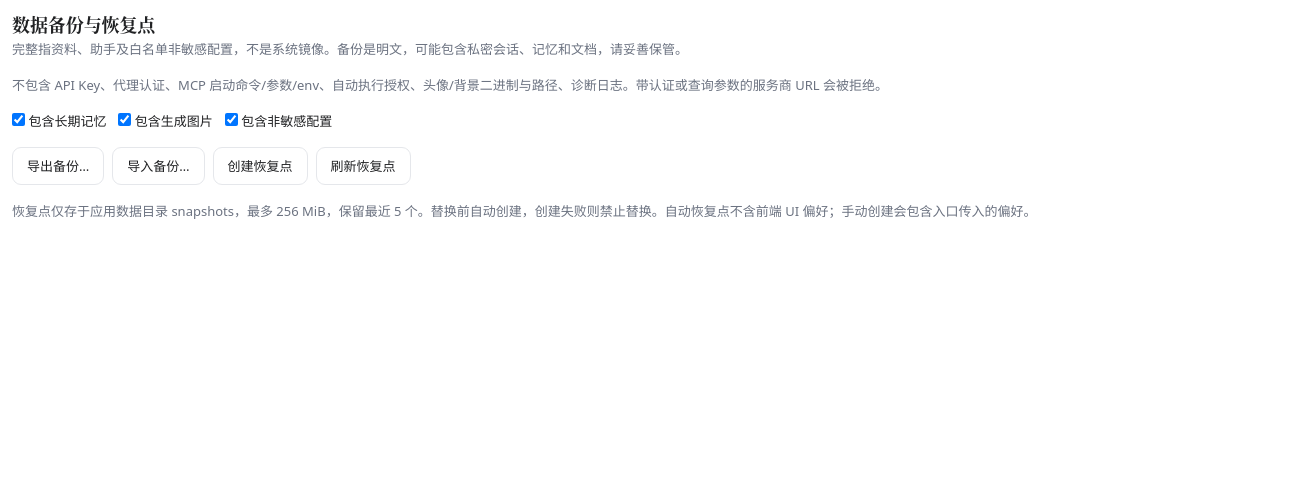
BackupPanel › keeps preview and reports checkpoint/import failure without claiming success
The image size is (1292, 486).
Click the button "导入备份…" at (158, 166), box [112,147,205,185]
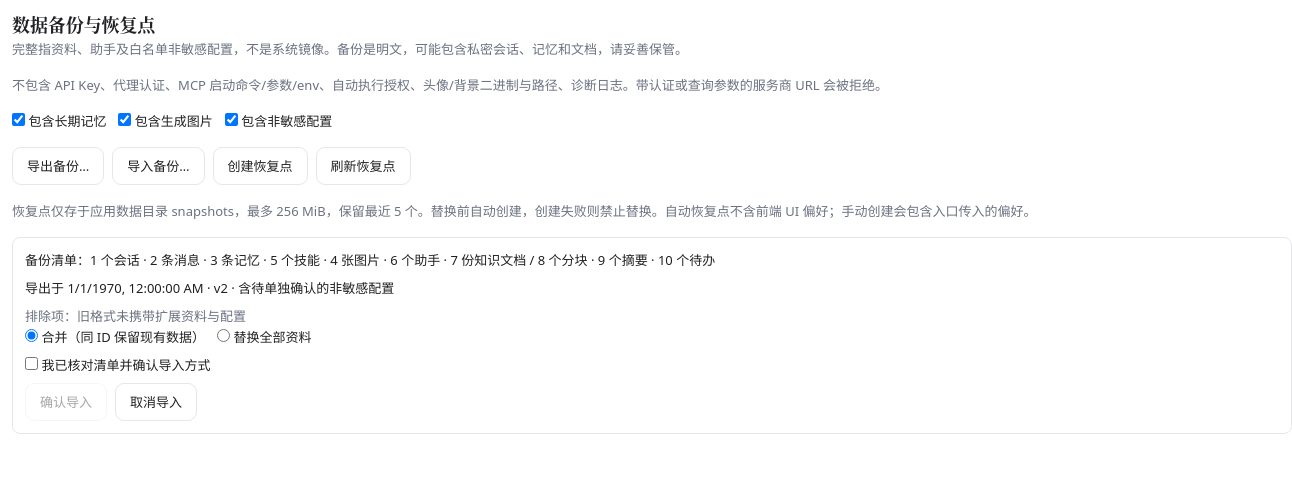
Expected: the button with aria-label "导入预览" is shown, [12,237,1291,434]
Click the checkbox labelled "我已核对清单并确认导入方式" at (32, 364), box [25,357,38,370]
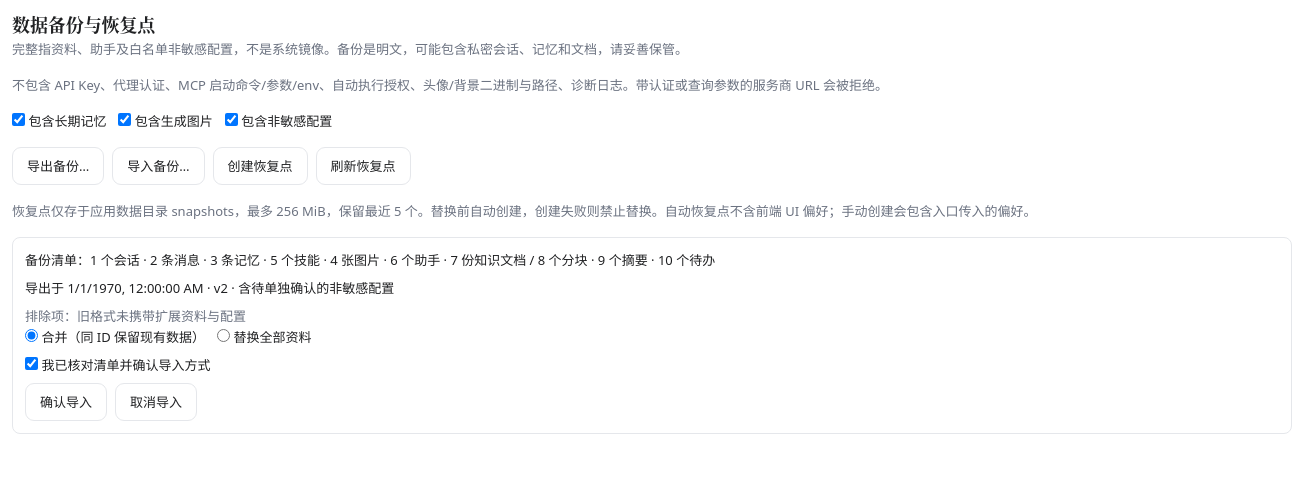
Click the button "确认导入" at (66, 402), box [25,383,107,421]
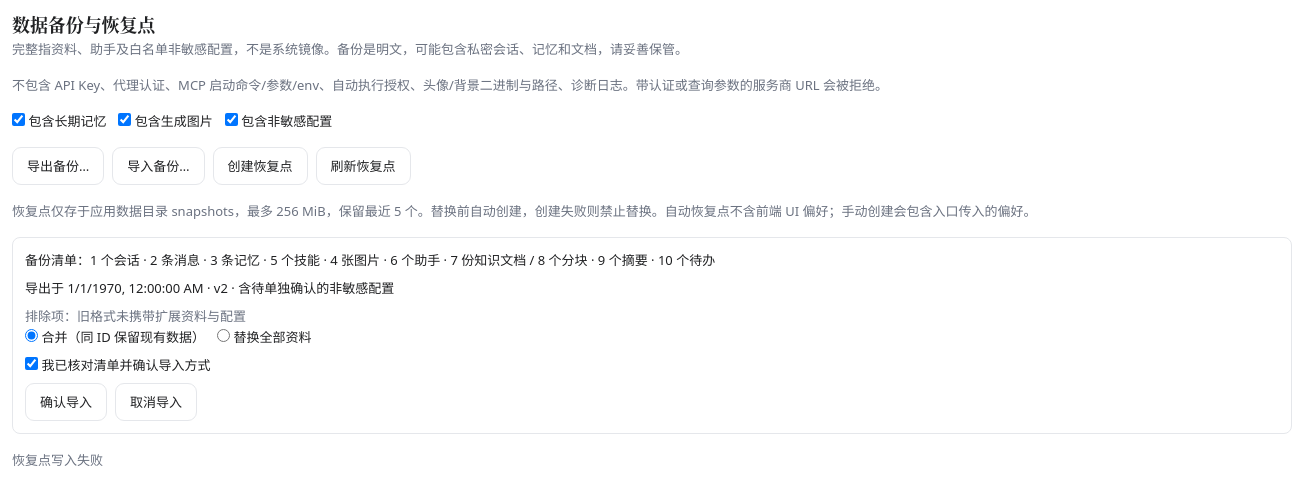
Expected: the button with aria-label "导入预览" is shown, [12,237,1291,434]
Expected: the text "恢复点写入失败" is shown, [12,451,103,469]
